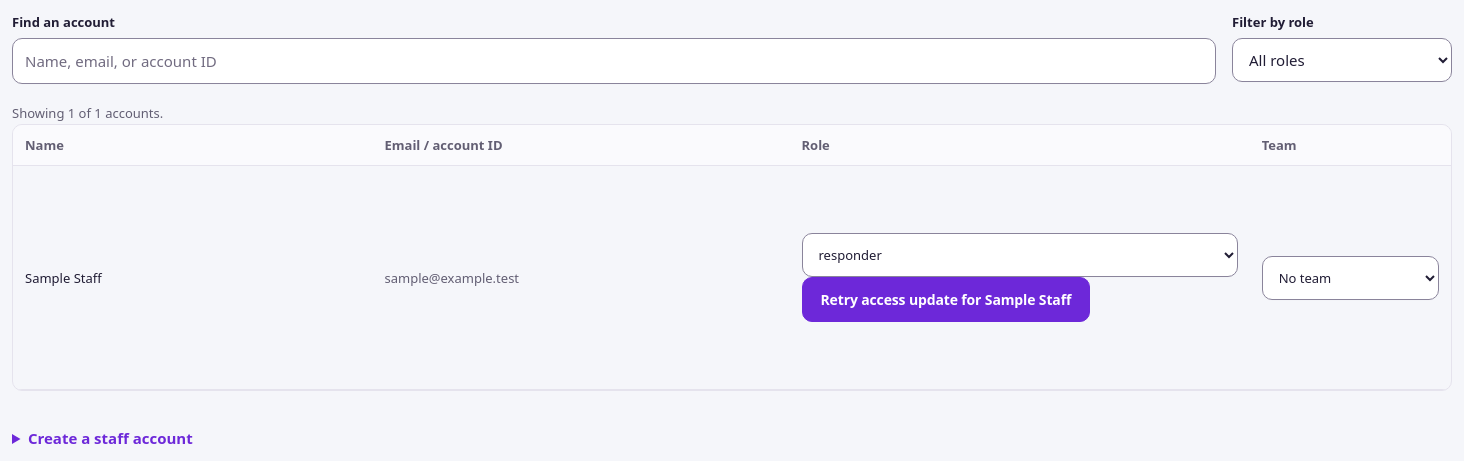
Test: retries a pending access update even when the stored role has not changed
The image size is (1464, 461).
Step 1. Click the button "Retry access update for Sample Staff" → (946, 300), box [802,277,1090,322]
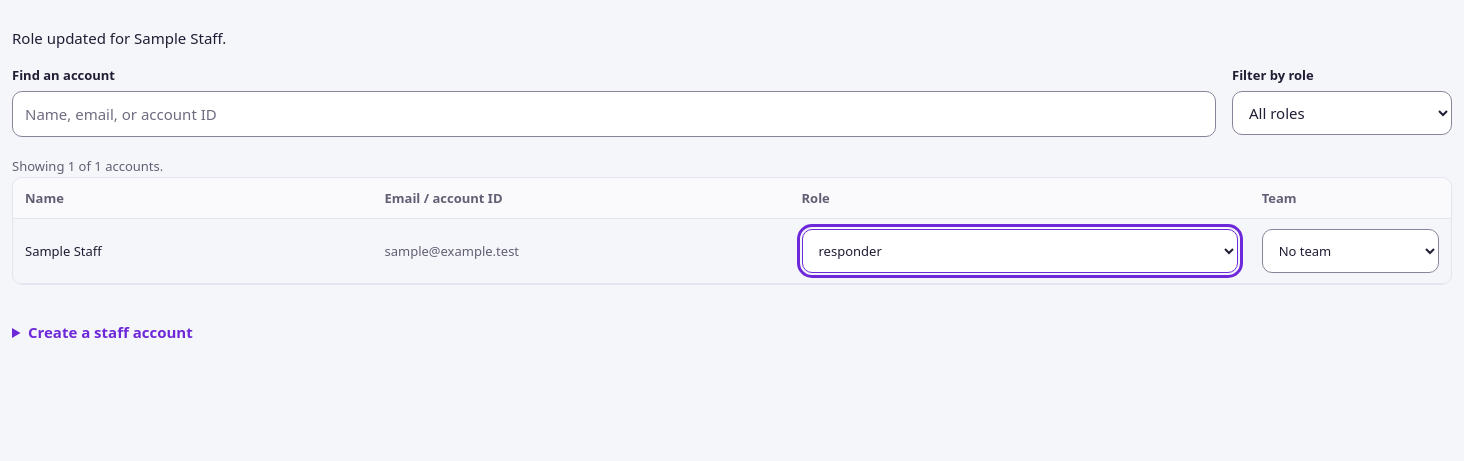
Now the text "Role updated for Sample Staff." is shown, box [12,28,226,48]
Now the button "Retry access update for Sample Staff" is gone
